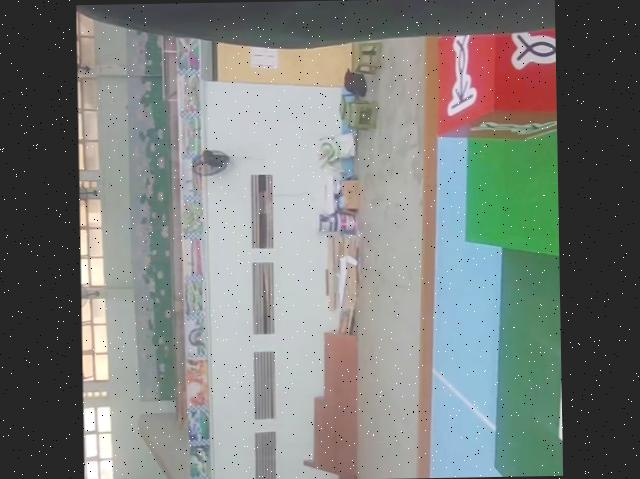R2 Real: (431, 0, 557, 139)
